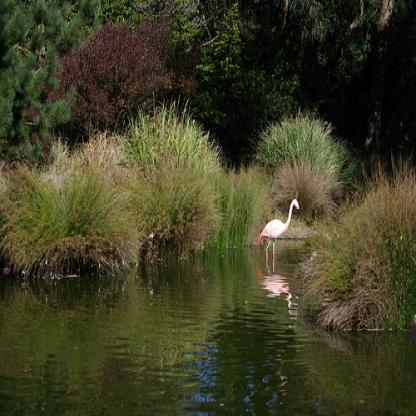bird: (254, 196, 300, 265)
